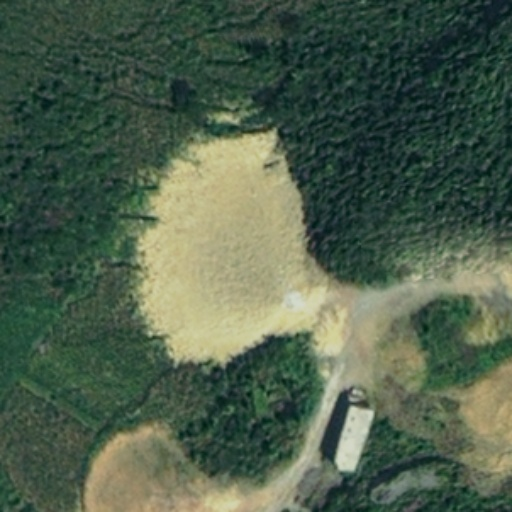landslide: (135, 130, 348, 366)
